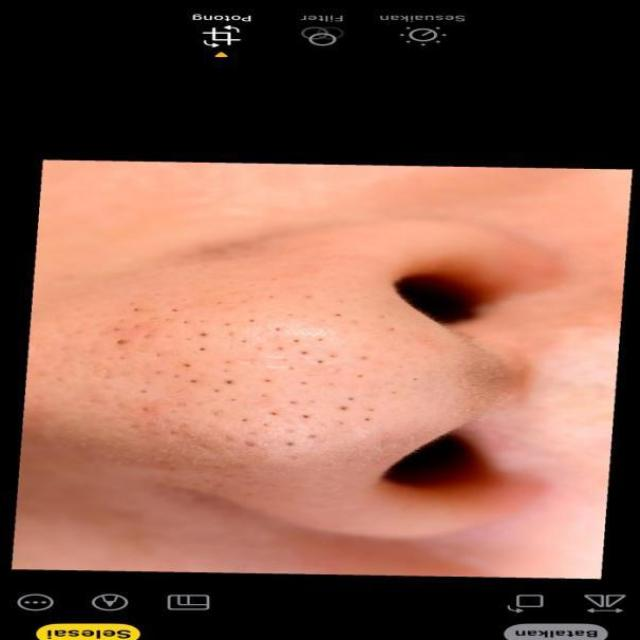blackhead: (97, 283, 395, 451)
